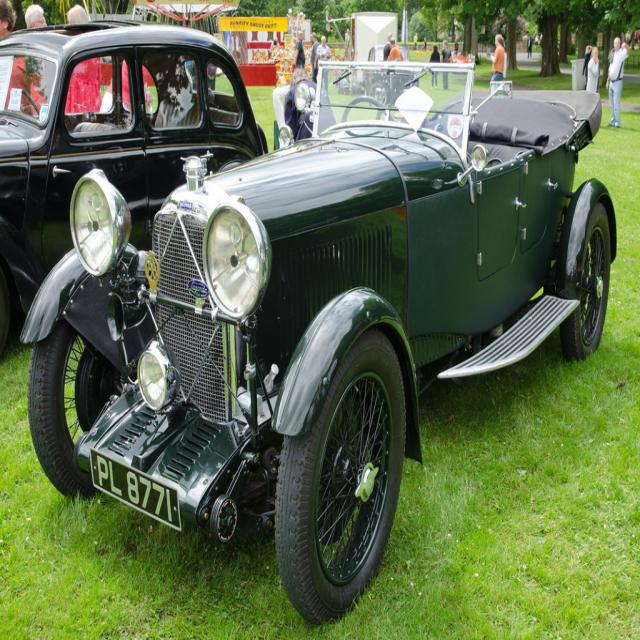car: (19, 62, 617, 618)
